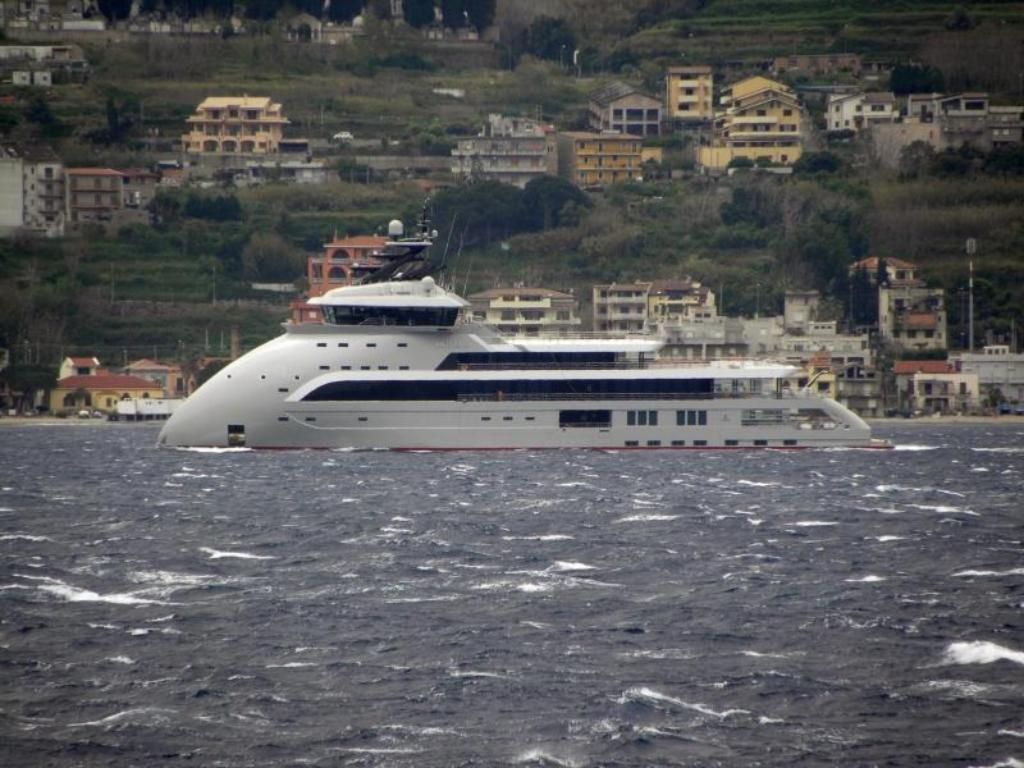PassengerShip: (145, 210, 901, 462)
